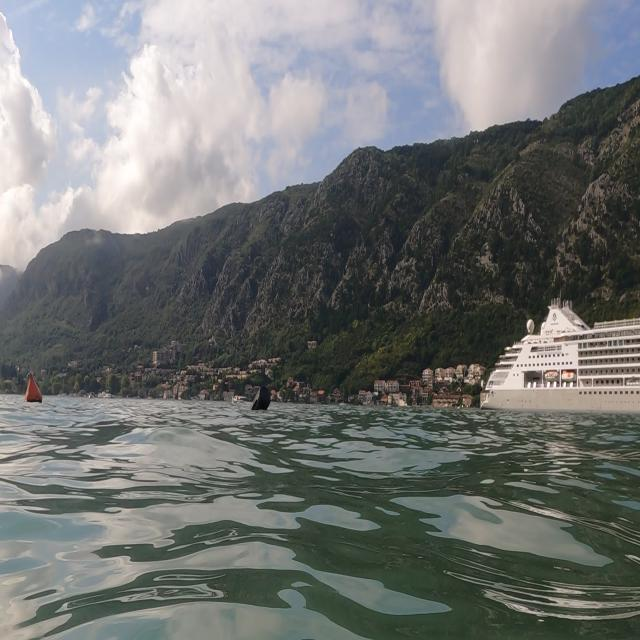boat: (478, 290, 638, 416)
buoy: (244, 381, 278, 416), (21, 367, 47, 409)
